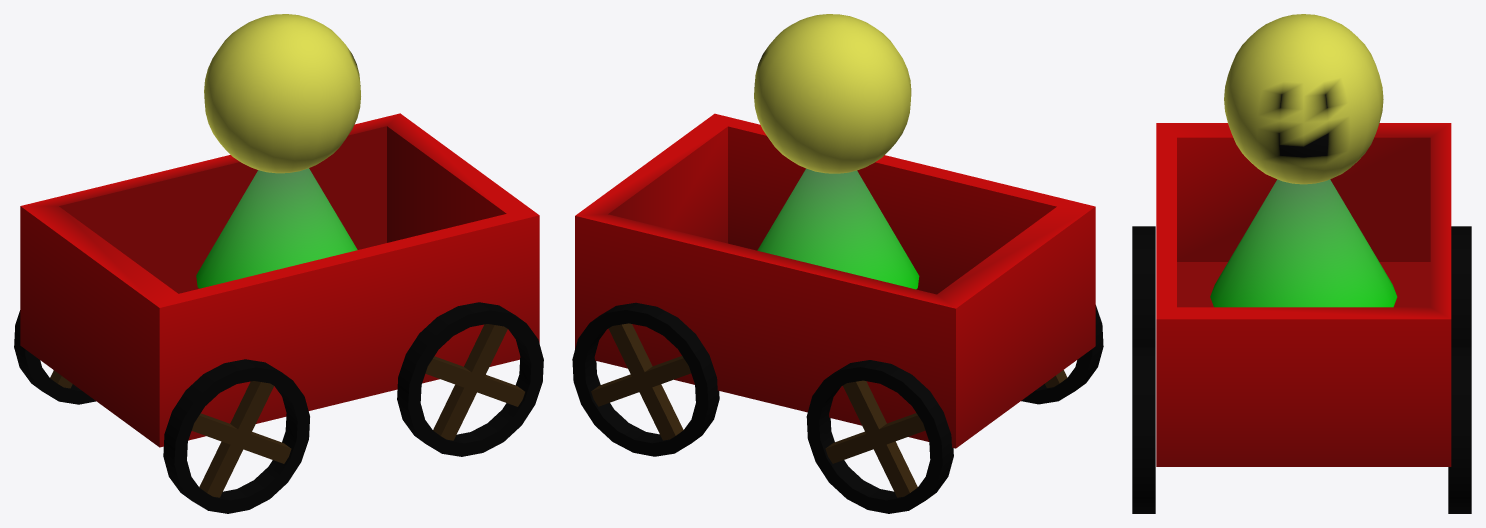
The model's file is cart2.fbx.
The picture shows the model from 3 angles, left to right: view 1: azimuth 30°, elevation 25°; view 2: azimuth 150°, elevation 25°; view 3: azimuth 270°, elevation 25°; orthographic projection. The views are drawn at different scales.
Parts seen in each view (by area): view 1: cart, pSphere1, wheel, wheel1, pCone1, wheel2; view 2: cart, pSphere1, wheel3, wheel2, pCone1, wheel1; view 3: cart, pSphere1, pCone1, wheel, wheel3, wheel1, wheel2.
Part boxes in pixels (x1,y1,x2,y2): cart: (20,113,539,447); pSphere1: (204,14,360,173); wheel: (397,302,543,456); wheel1: (163,359,309,513); pCone1: (196,168,357,288); wheel2: (14,310,95,404); cart: (575,113,1095,448); pSphere1: (754,14,911,173); wheel3: (572,302,719,456); wheel2: (806,360,953,513); pCone1: (757,168,919,289); wheel1: (1021,305,1103,404); cart: (1156,123,1451,466); pSphere1: (1224,14,1383,184); pCone1: (1210,179,1397,307); wheel: (1132,347,1155,513); wheel3: (1448,347,1471,513); wheel1: (1132,226,1155,346); wheel2: (1451,226,1471,346).
Bounding box in the file's own units: 2.85 × 2.88 × 2.08.
